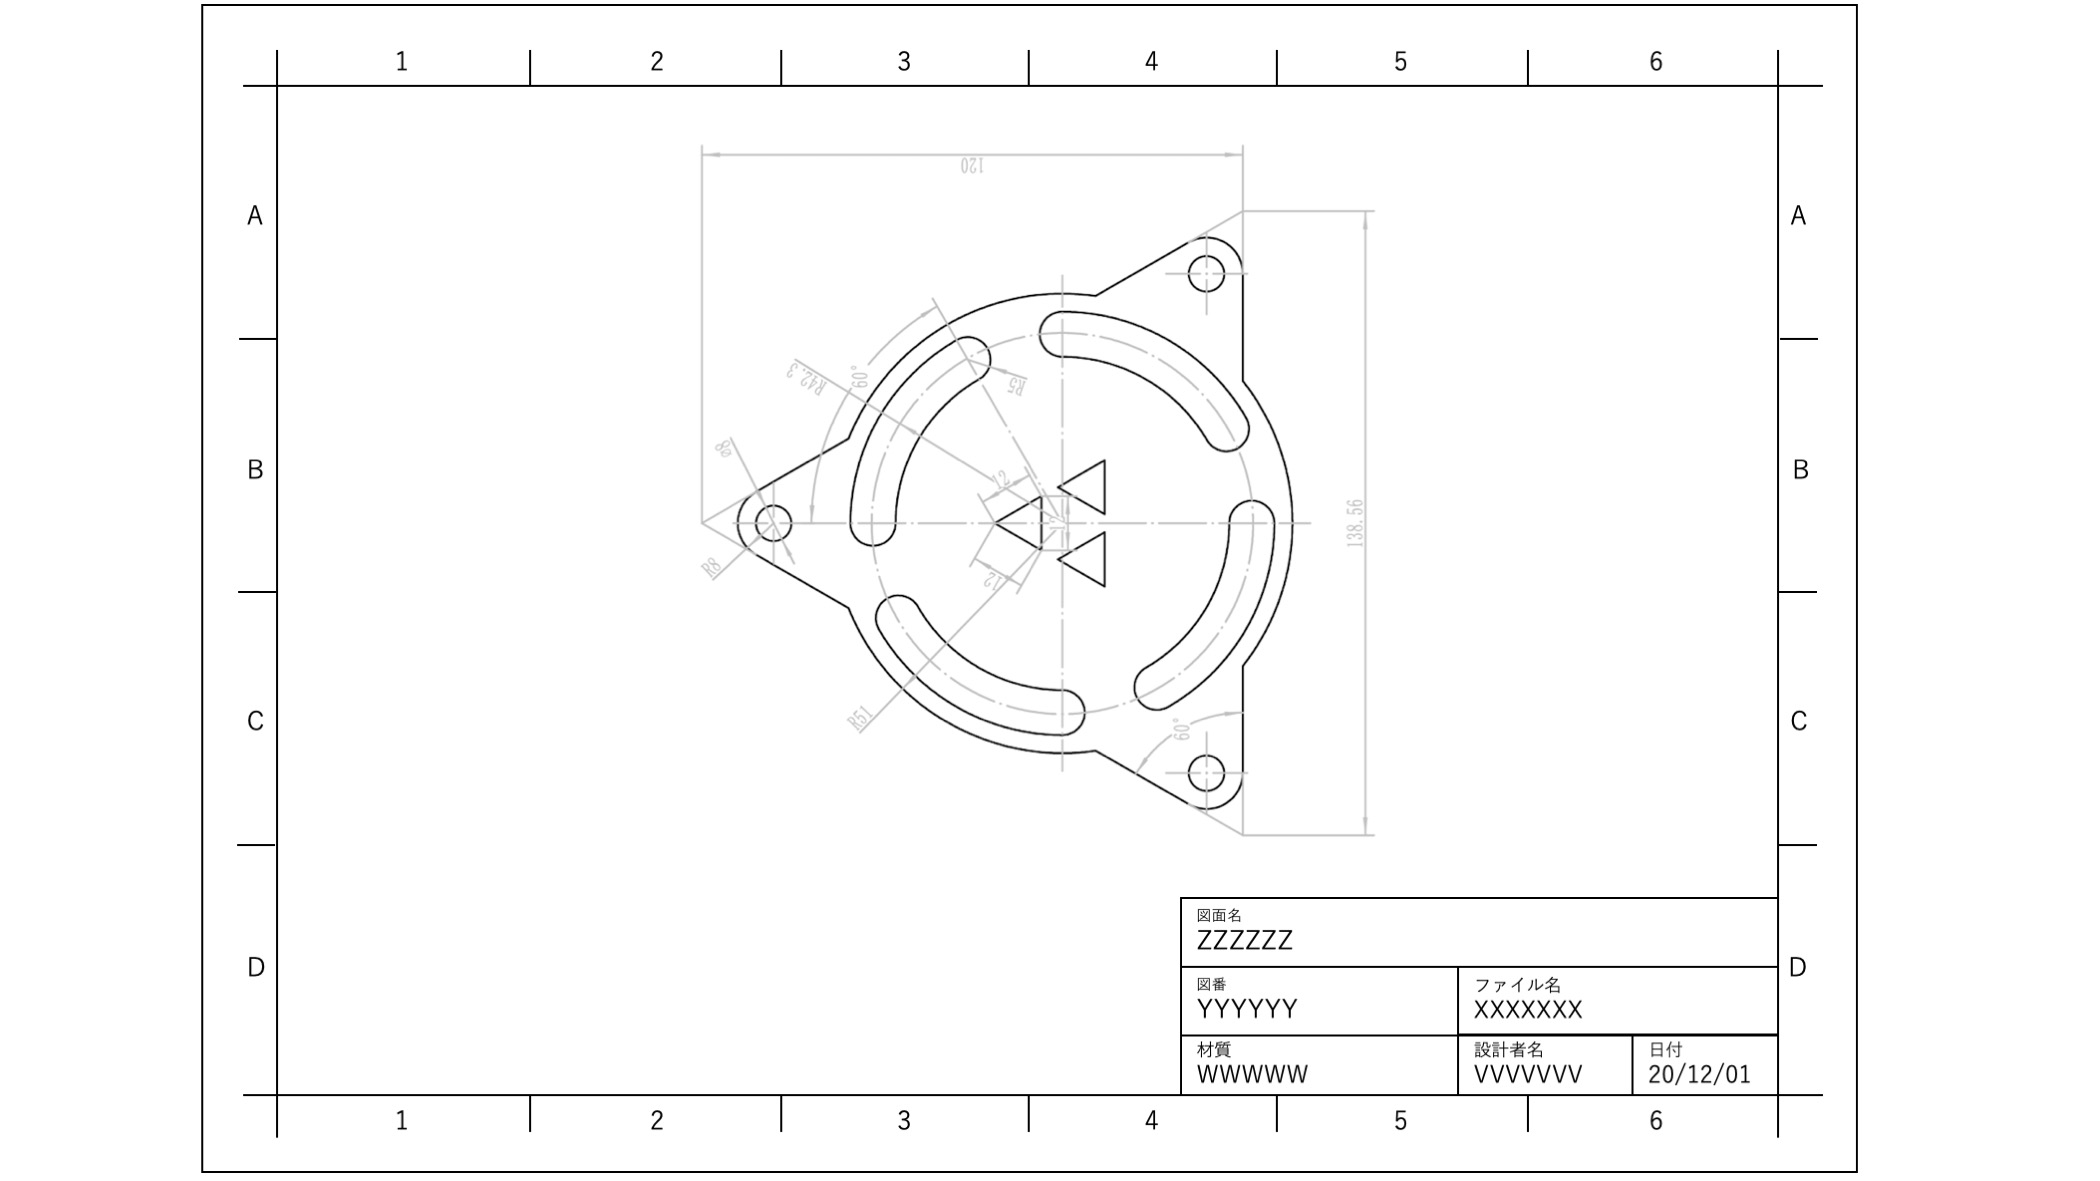circle: (741, 495, 800, 547), (1175, 750, 1229, 800), (1184, 249, 1227, 291)
round_rectangle: (1115, 493, 1292, 715), (865, 583, 1098, 746), (828, 327, 998, 547), (1037, 304, 1261, 464)
triangle: (1051, 523, 1119, 588), (1057, 454, 1125, 516), (995, 490, 1046, 567)
